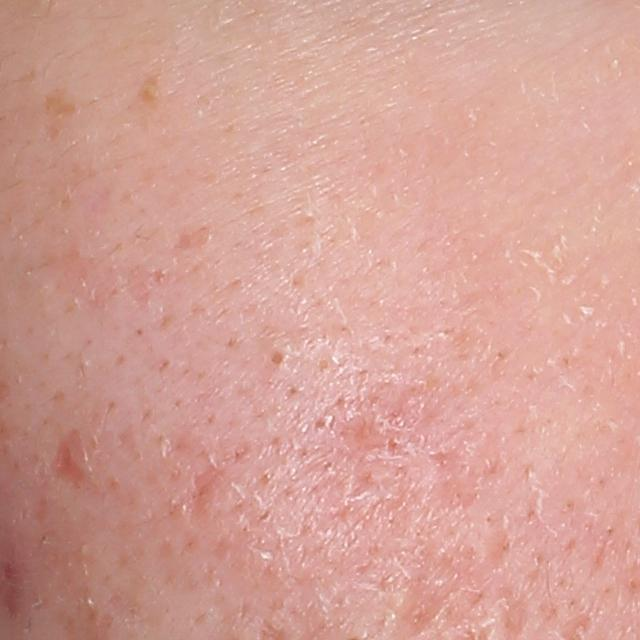atrophic_scar: (178, 460, 235, 528), (340, 411, 398, 450)
melasma: (38, 89, 87, 118), (137, 72, 163, 109)
